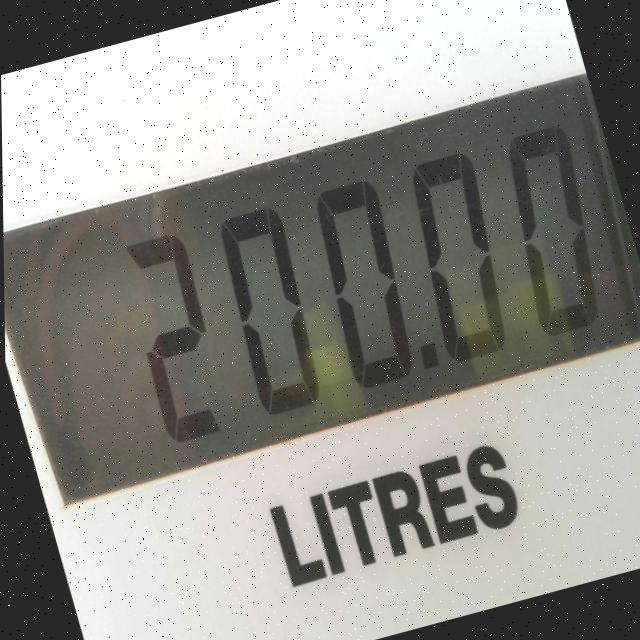.: (404, 324, 459, 402)
0: (192, 178, 351, 431), (383, 134, 539, 388), (481, 118, 628, 348), (291, 168, 434, 403)
2: (100, 218, 250, 462)
